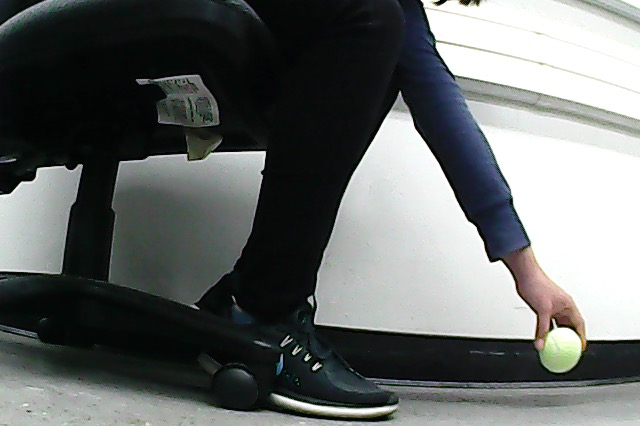ball: (539, 327, 583, 373)
